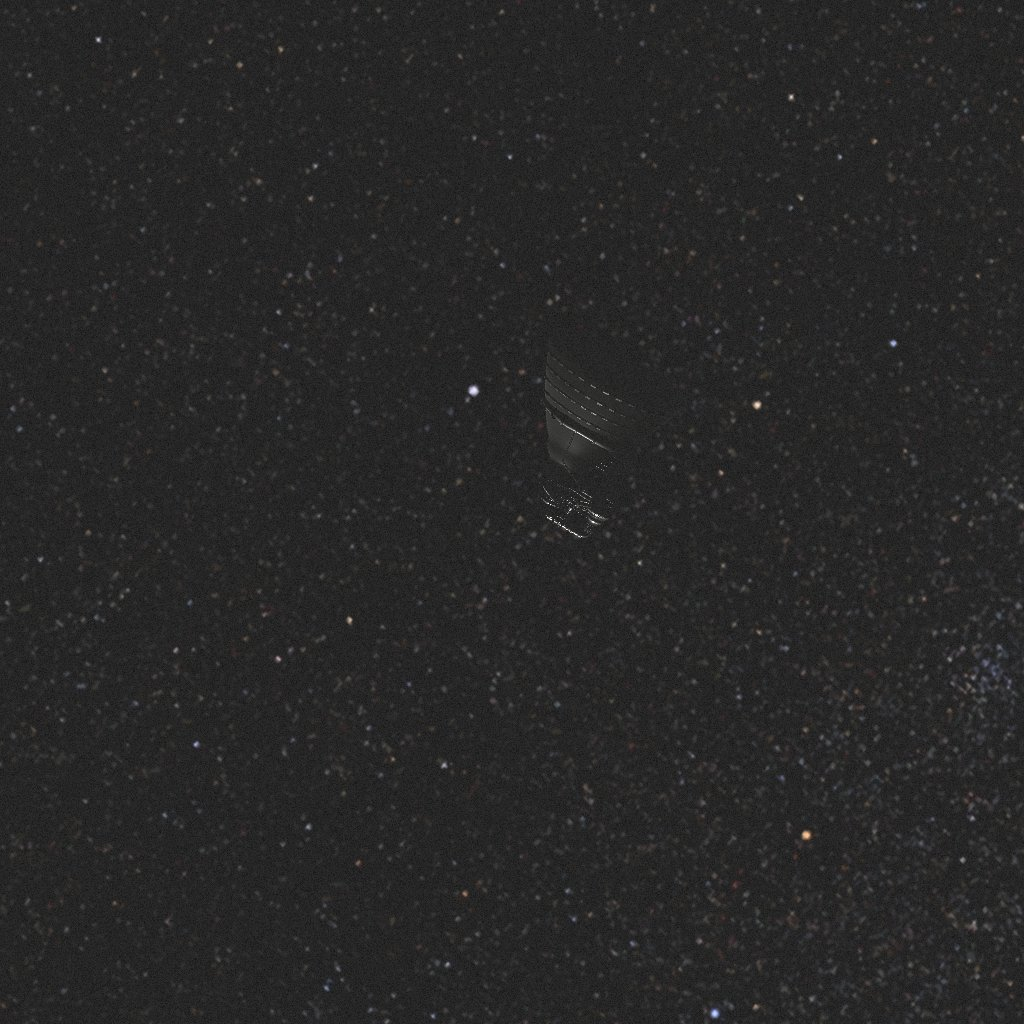debris: (536, 327, 687, 538)
